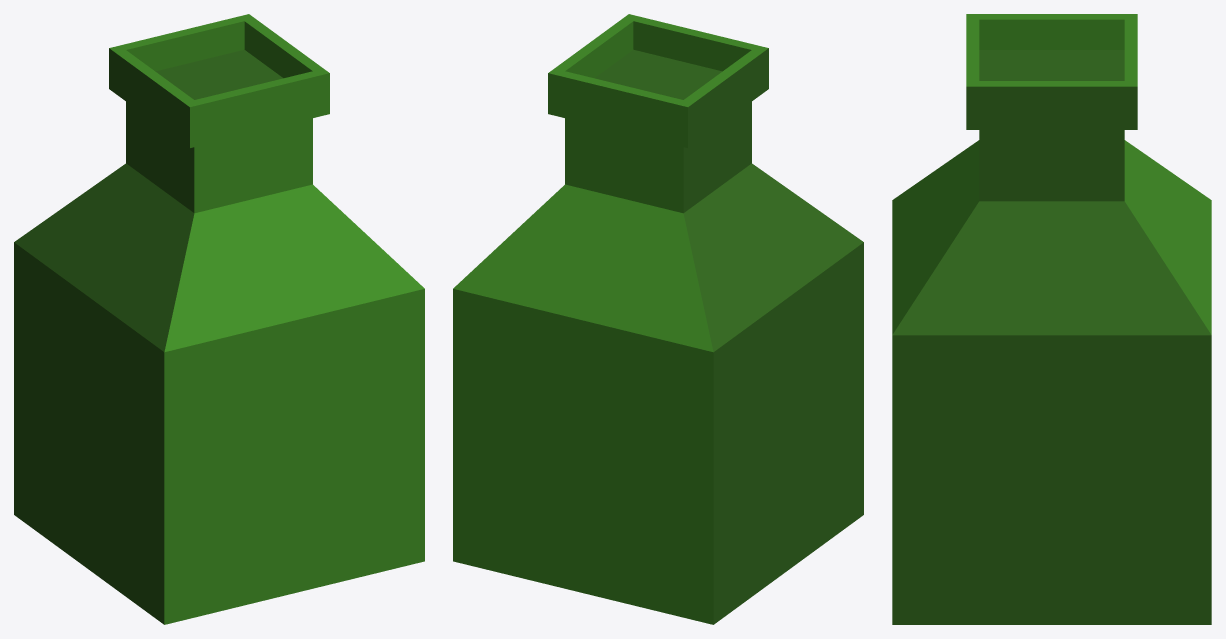
Rendered from potion_type_02.fbx.
The picture shows the model from 3 angles, left to right: view 1: azimuth 30°, elevation 25°; view 2: azimuth 150°, elevation 25°; view 3: azimuth 270°, elevation 25°; orthographic projection. The views are drawn at different scales.
Parts seen in each view (by area): view 1: potion_type_02; view 2: potion_type_02; view 3: potion_type_02.
Boxes of the visible parts, x1,y1,x2,y2 form: potion_type_02: (14,14,424,624); potion_type_02: (453,14,863,624); potion_type_02: (892,14,1211,624).
Bounding box in the file's own units: 8.82 × 15.45 × 8.82.
